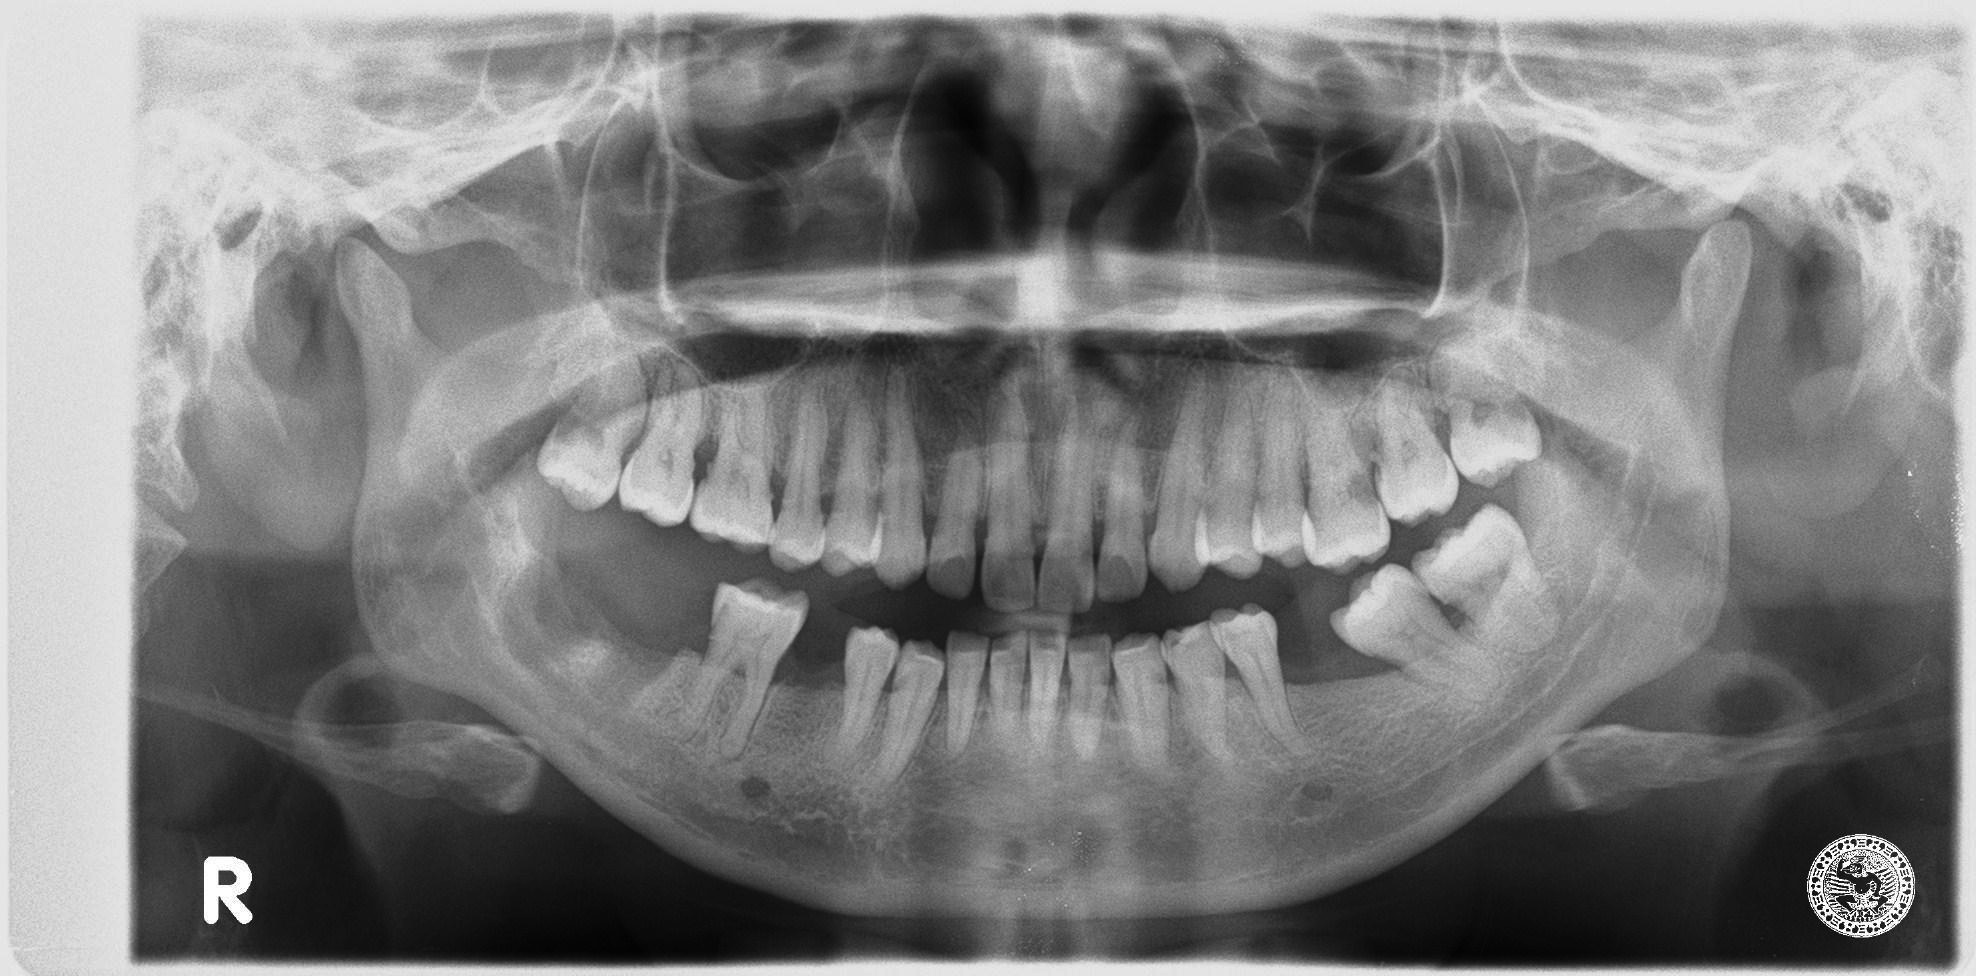Individual Tooth: (675, 579, 810, 758), (1330, 562, 1500, 696), (1414, 503, 1558, 652), (537, 353, 650, 509), (1209, 605, 1309, 758), (1302, 400, 1390, 572), (1148, 364, 1214, 591), (617, 356, 703, 527), (689, 381, 774, 551), (979, 373, 1038, 610), (1036, 393, 1094, 612), (1442, 361, 1542, 485), (1195, 396, 1263, 578), (873, 366, 928, 588), (1375, 387, 1457, 525), (818, 398, 881, 575), (769, 392, 829, 570), (1251, 373, 1306, 567), (1161, 620, 1232, 760), (1094, 416, 1147, 601), (876, 641, 945, 781), (926, 426, 982, 599), (838, 627, 899, 749), (1111, 636, 1167, 764), (944, 630, 989, 757), (1067, 634, 1110, 758), (1030, 633, 1066, 741), (988, 630, 1028, 723)
